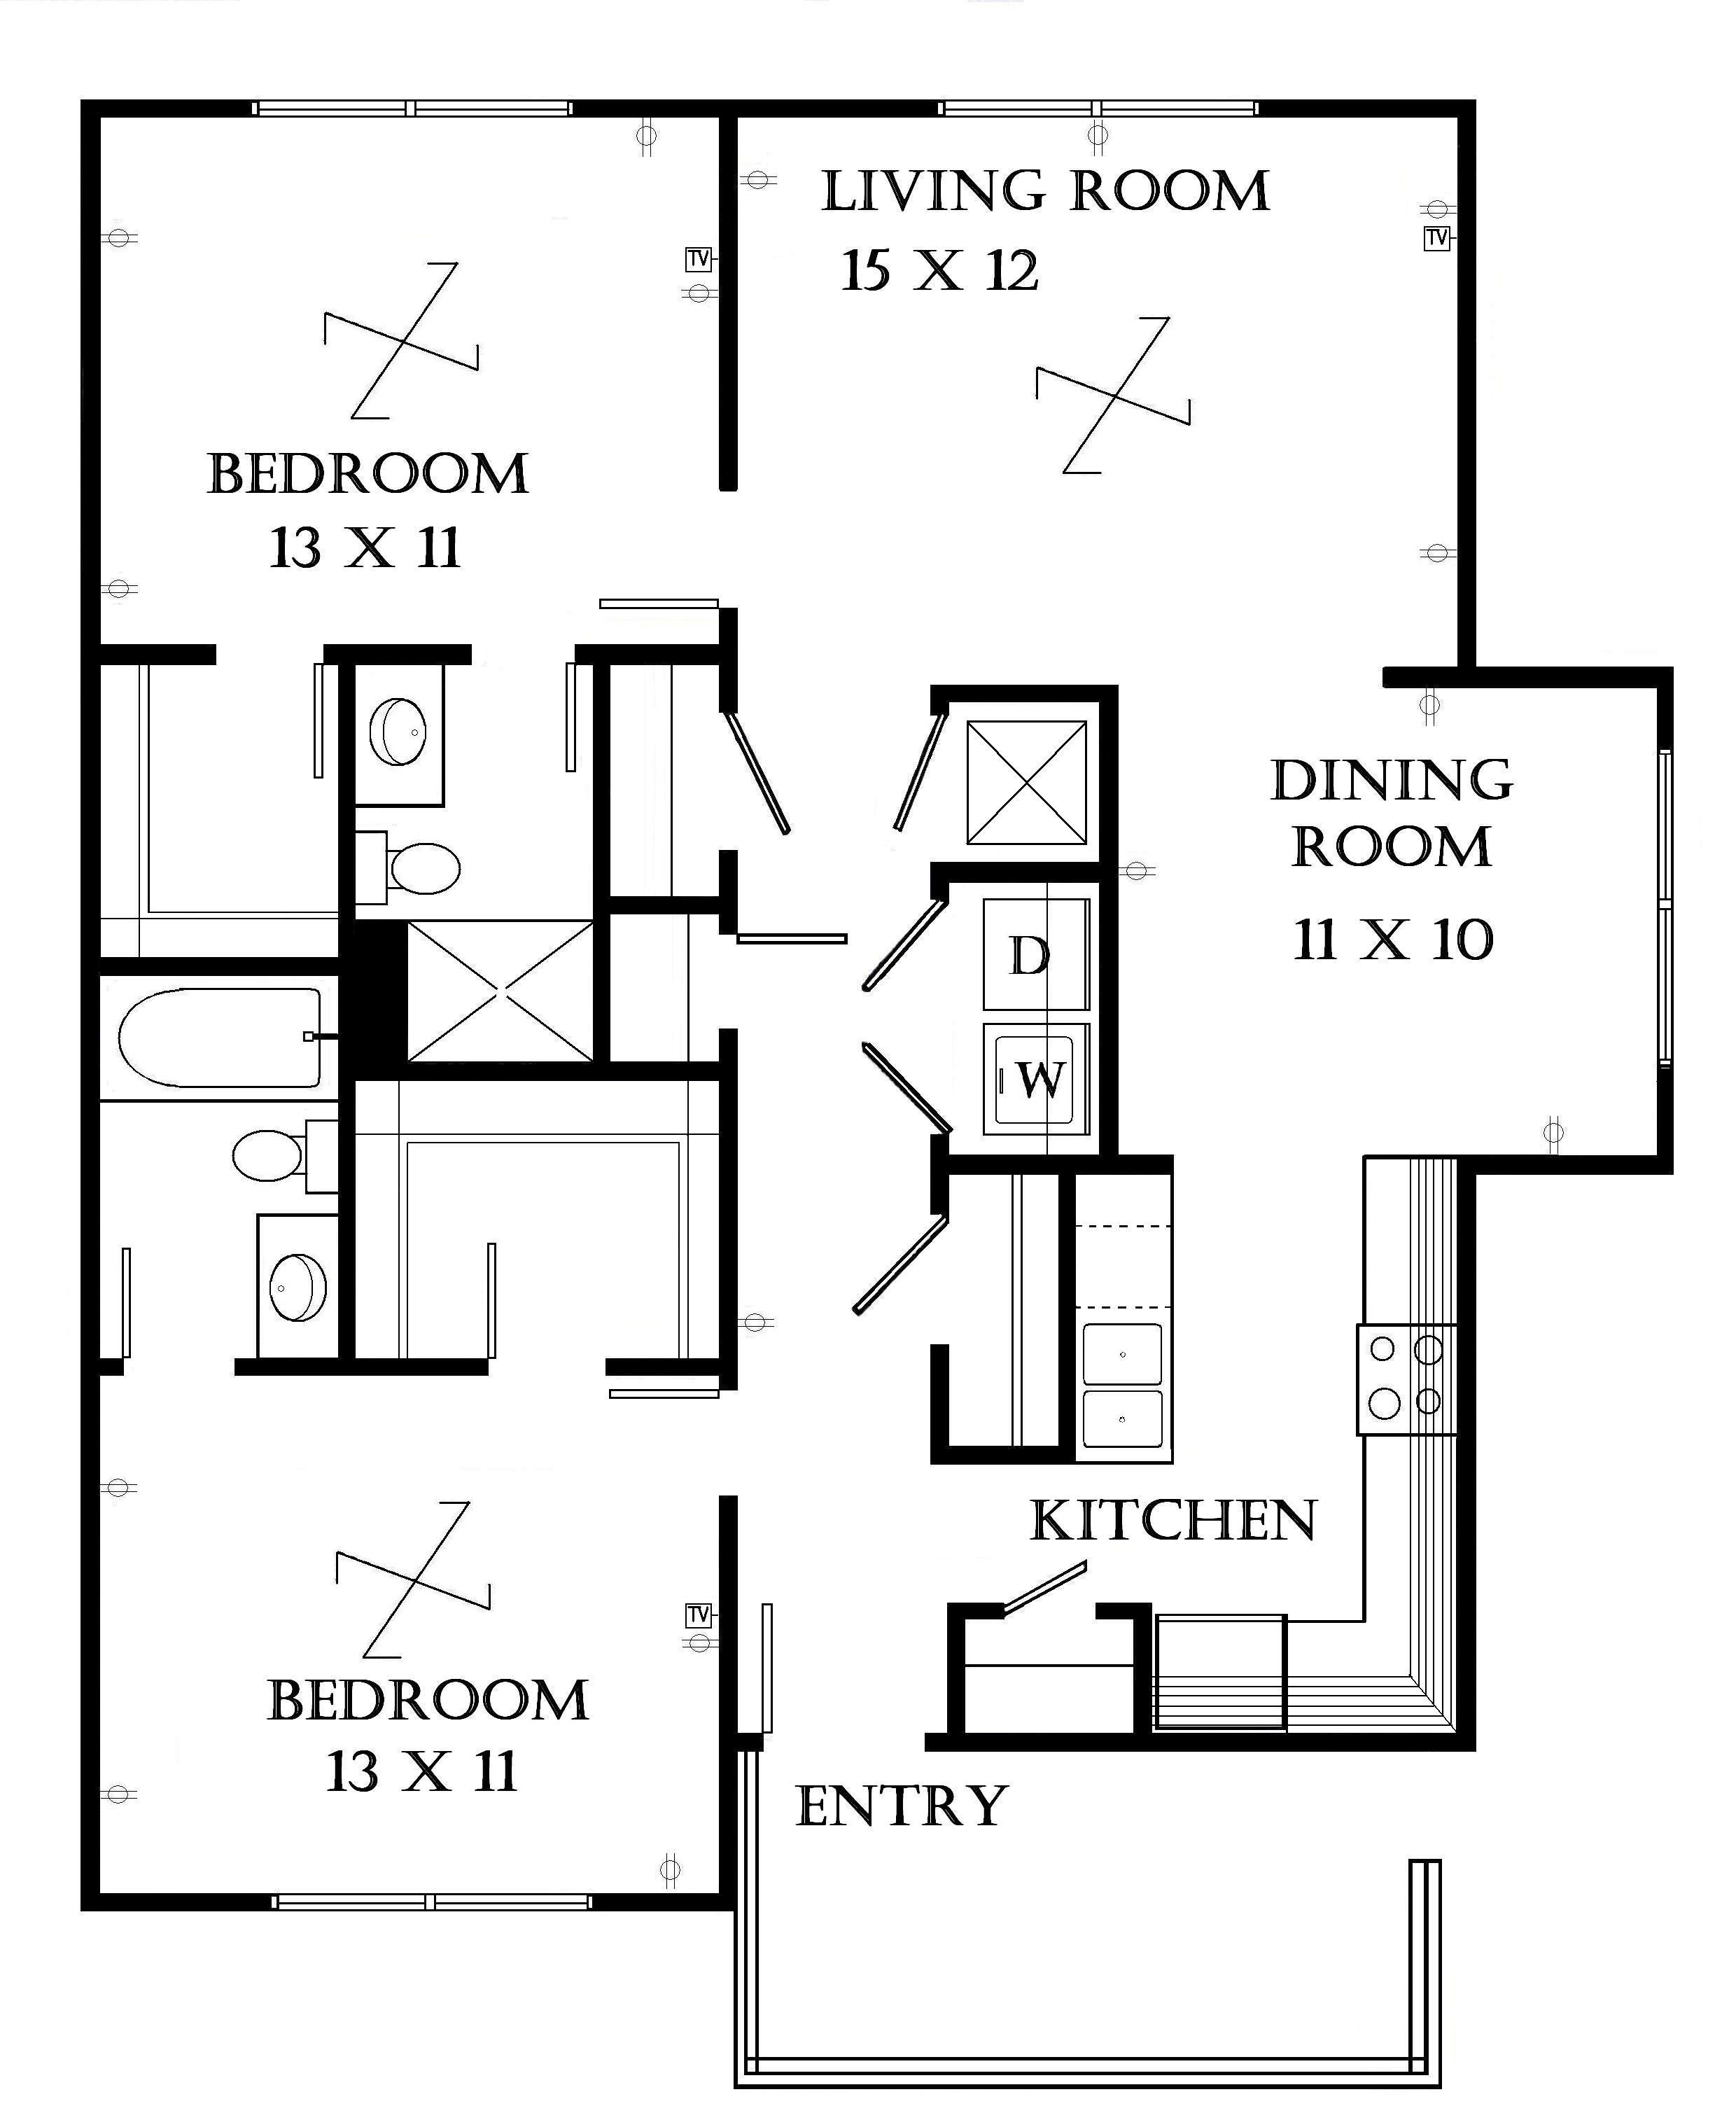room: (87, 940, 729, 1913), (715, 655, 1676, 1173), (719, 95, 1476, 664), (79, 95, 736, 670)
